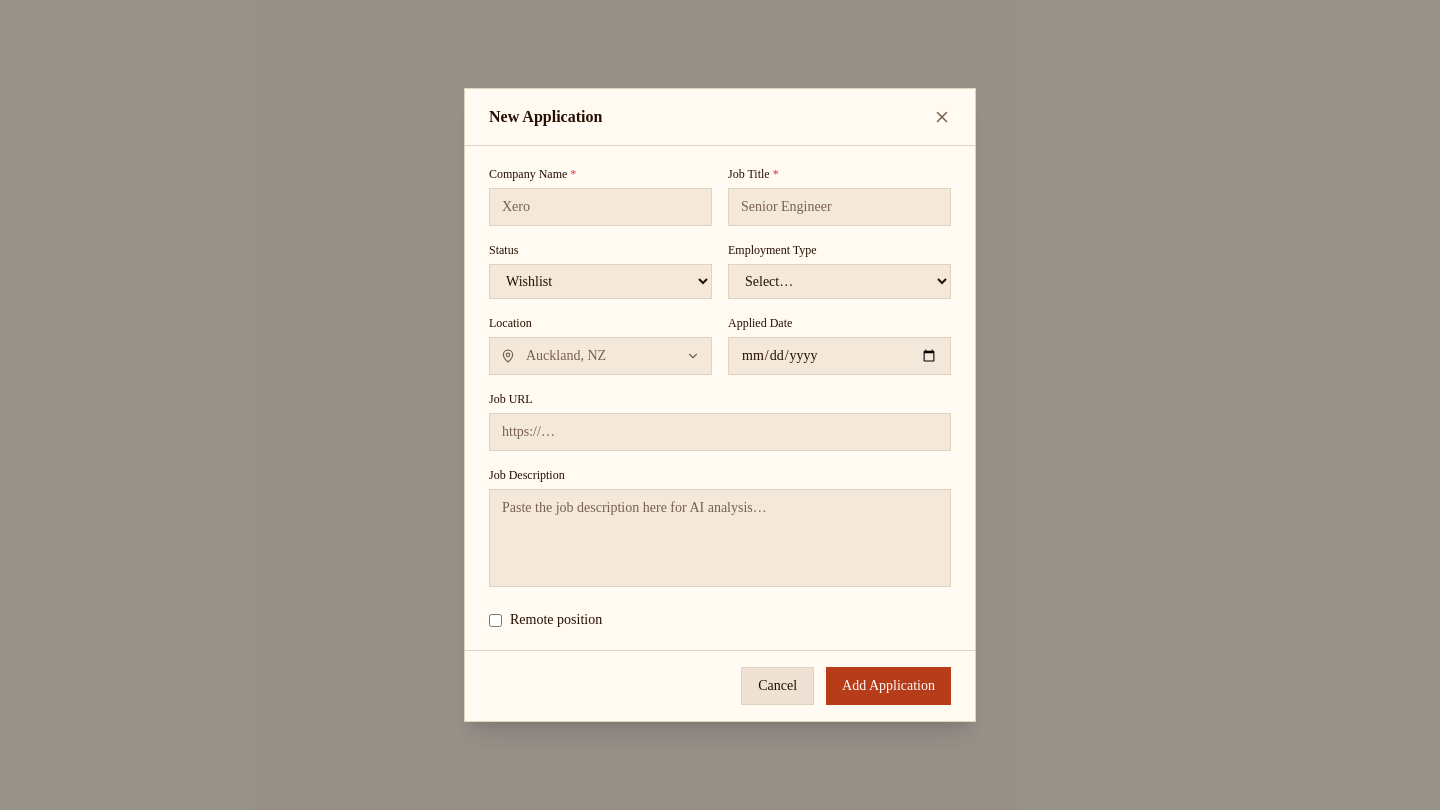
ApplicationForm › shows error when company name is empty on submit
This screenshot has width=1440, height=810.
What coordinates should you click on to do the following:
click the button "Add Application"
I would click on:
 (889, 686)
Its box is 826,667 -> 951,705.
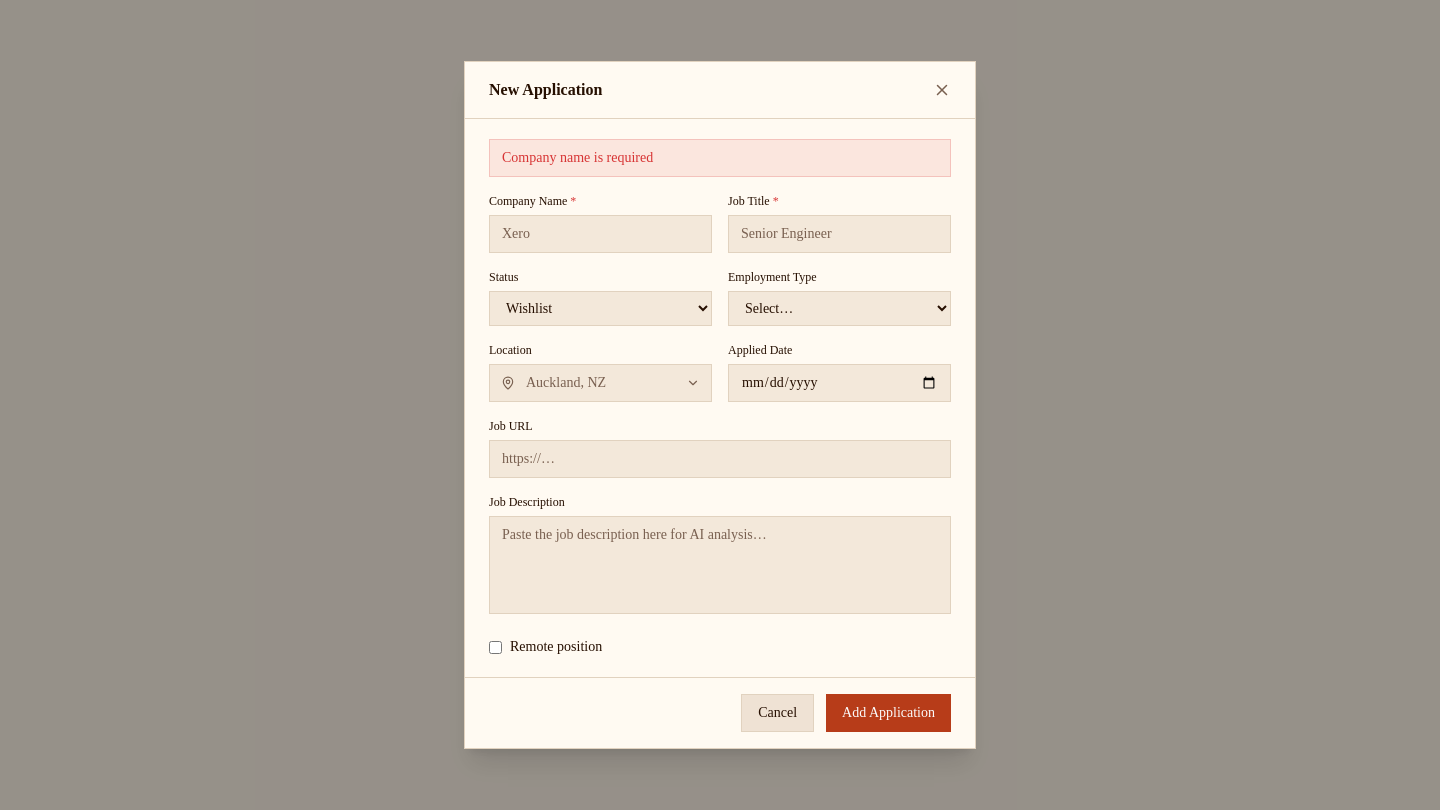
Expected: the message reads "Company name is required", 502,150 -> 653,165
